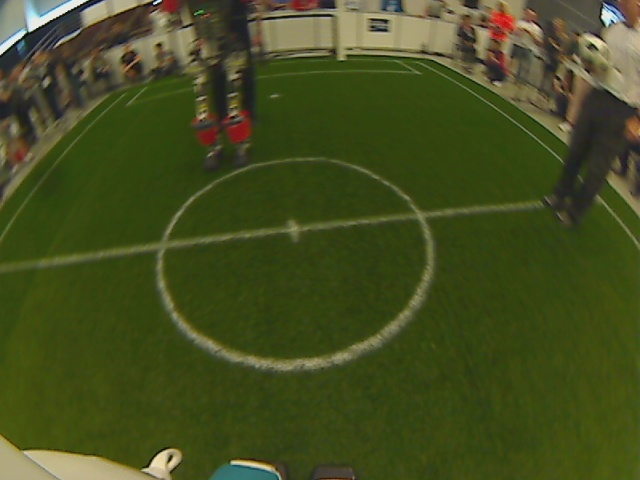ball: (574, 32, 609, 70)
